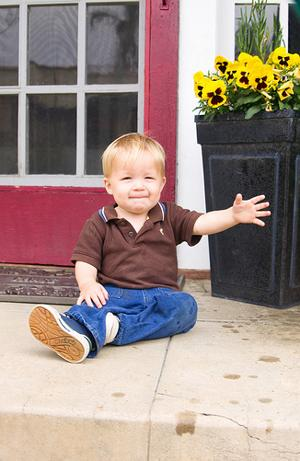person: (29, 134, 271, 362)
